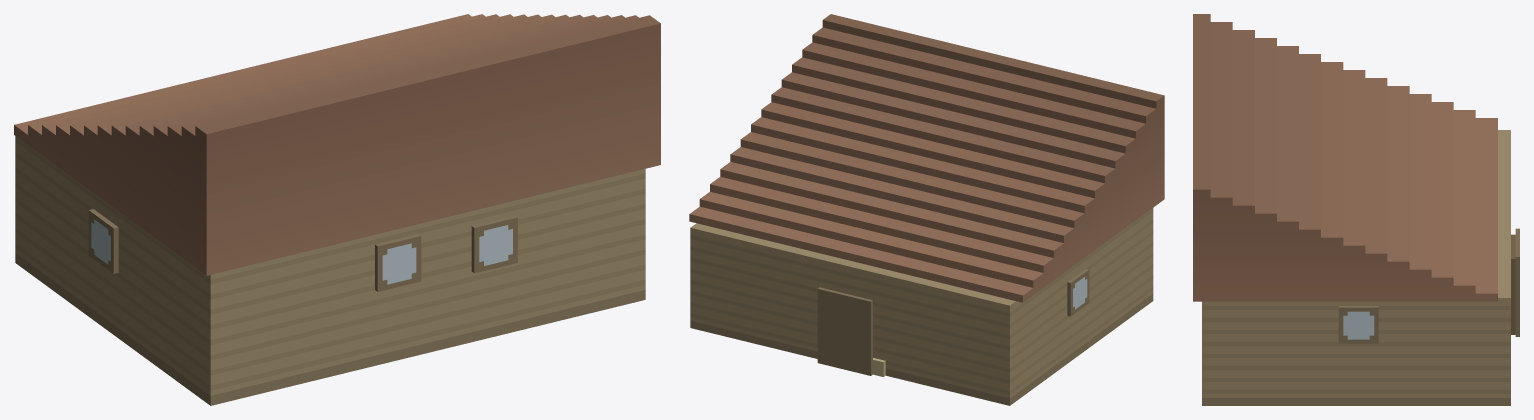
Rendered from astillero_02.glb.
3 renders of one model, left to right at view 1: azimuth 30°, elevation 25°; view 2: azimuth 150°, elevation 25°; view 3: azimuth 270°, elevation 25°, orthographic. The views are drawn at different scales.
Parts seen in each view (by area): view 1: astillero_02; view 2: astillero_02; view 3: astillero_02.
Part boxes in pixels (left/top/right/bottom): astillero_02: left=14, top=14, right=660, bottom=405; astillero_02: left=689, top=14, right=1164, bottom=405; astillero_02: left=1193, top=14, right=1519, bottom=405.
Size of the model in its own units: 9.4 by 5.5 by 7.4.
